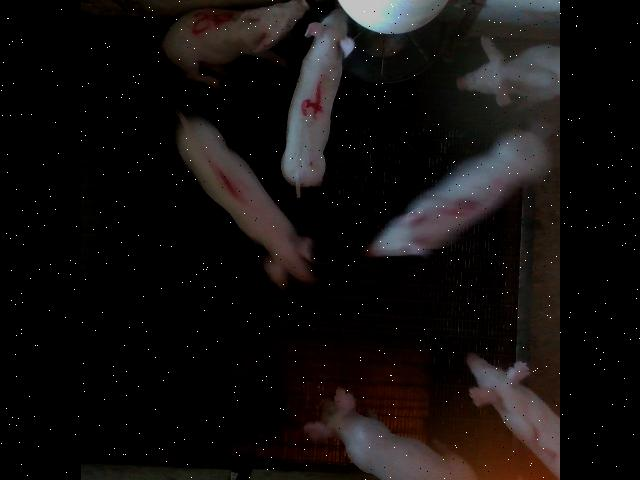pig-1: (175, 109, 314, 289)
pig-3: (365, 131, 551, 258)
pig-4: (280, 9, 353, 195)
pig-5: (159, 0, 308, 89)
